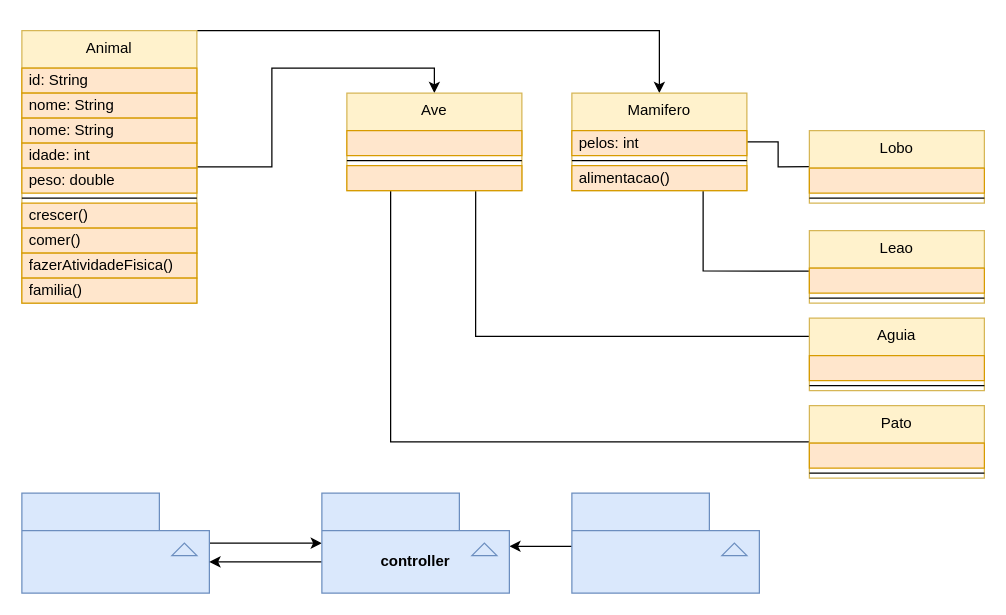
This 1006x615 diagram has some shape labels left out. Each missing label, with the centre of its shape:
"corPenas: String" belongs at point (896, 455).
"ehAlpha: boolean" belongs at point (896, 180).
"ehVoador()" belongs at point (434, 177).
"envergadura: double" belongs at point (434, 142).
"gerouFilhos: boolean" belongs at point (896, 367).
"model" belongs at point (665, 542).
"vacinas: int" belongs at point (896, 280).
"view" belongs at point (115, 542).
